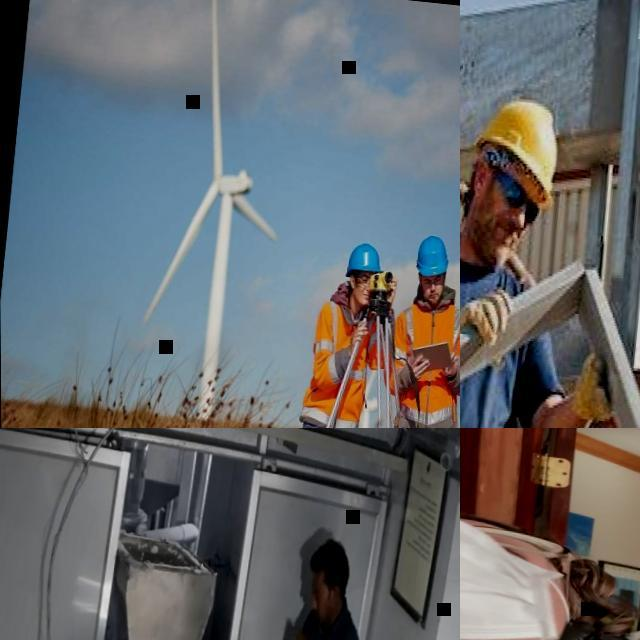Weapon: (455, 28, 640, 442), (304, 208, 462, 422), (241, 520, 402, 640)
objects: (455, 66, 630, 423), (342, 232, 462, 310)
